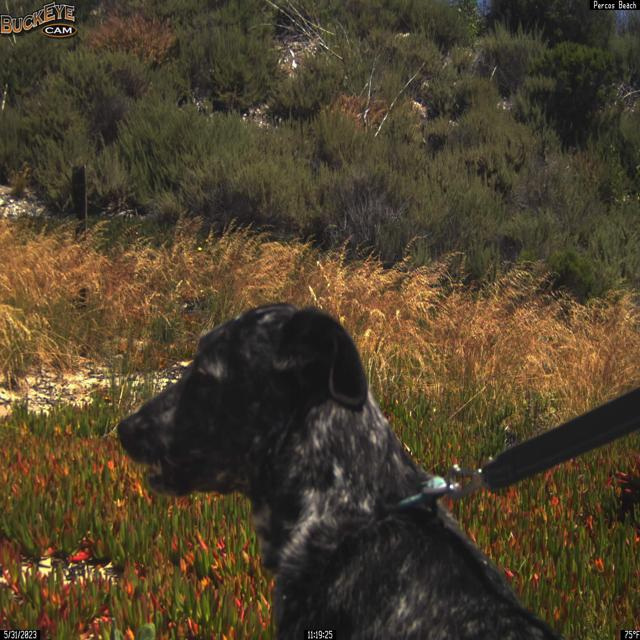dog: (115, 301, 626, 640)
